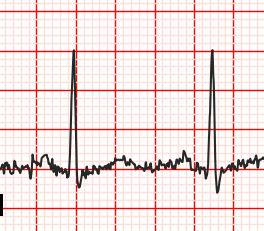ST Depression: (202, 162, 225, 195)
